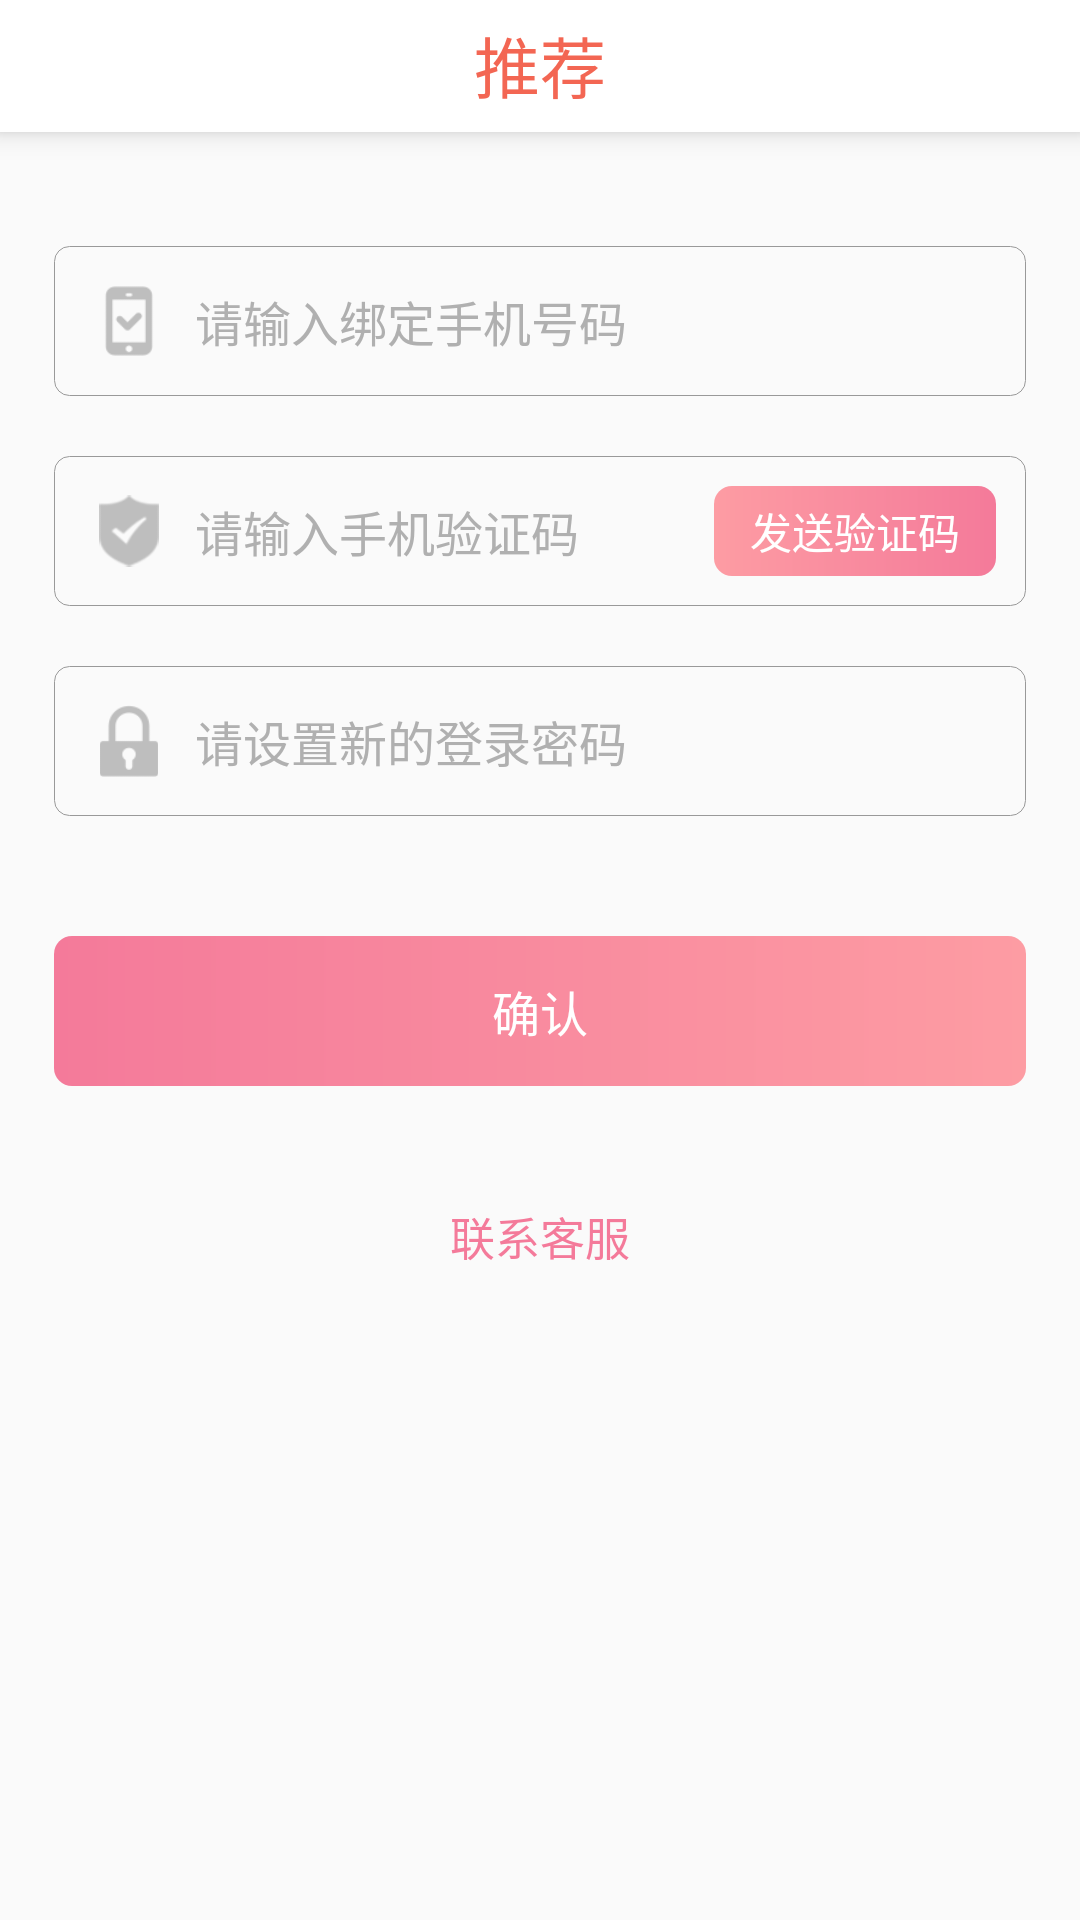

Icon bounding boxes for this 1080×1920 phone screenshot, format (x1=x1, y1=y1, x2=x2, y2=y2):
pwd code: (x1=99, y1=495, x2=159, y2=567)
pwd lock: (x1=100, y1=706, x2=158, y2=777)
pwd phone: (x1=106, y1=286, x2=152, y2=356)
